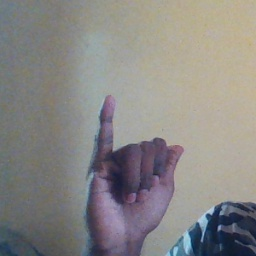J: (84, 96, 190, 242)
